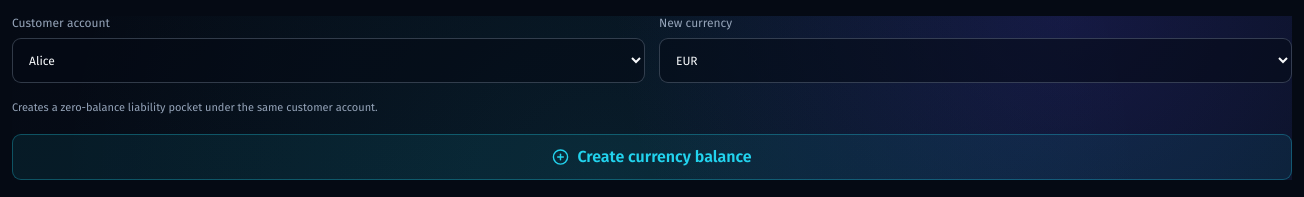
Test: WalletBalanceCreationForm › disables creation when the customer already has every supported currency
Select "Bob" in the dropdown labelled "Customer account" at (328, 60), box [12, 38, 645, 83]
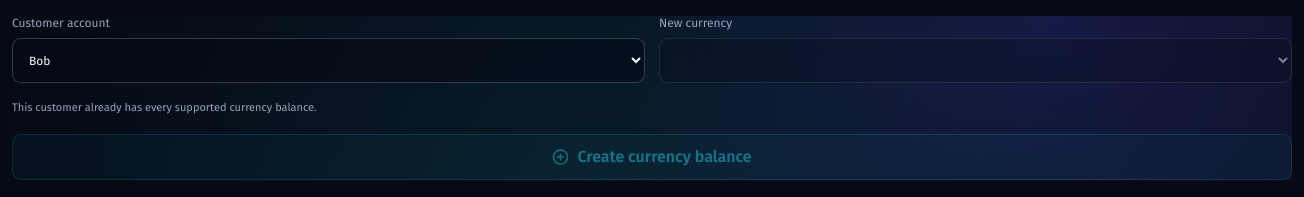
Result: the button "Create currency balance" is disabled at [12, 134, 1292, 180]
Result: the text "This customer already has every supported currency balance." is shown at [12, 101, 317, 114]
